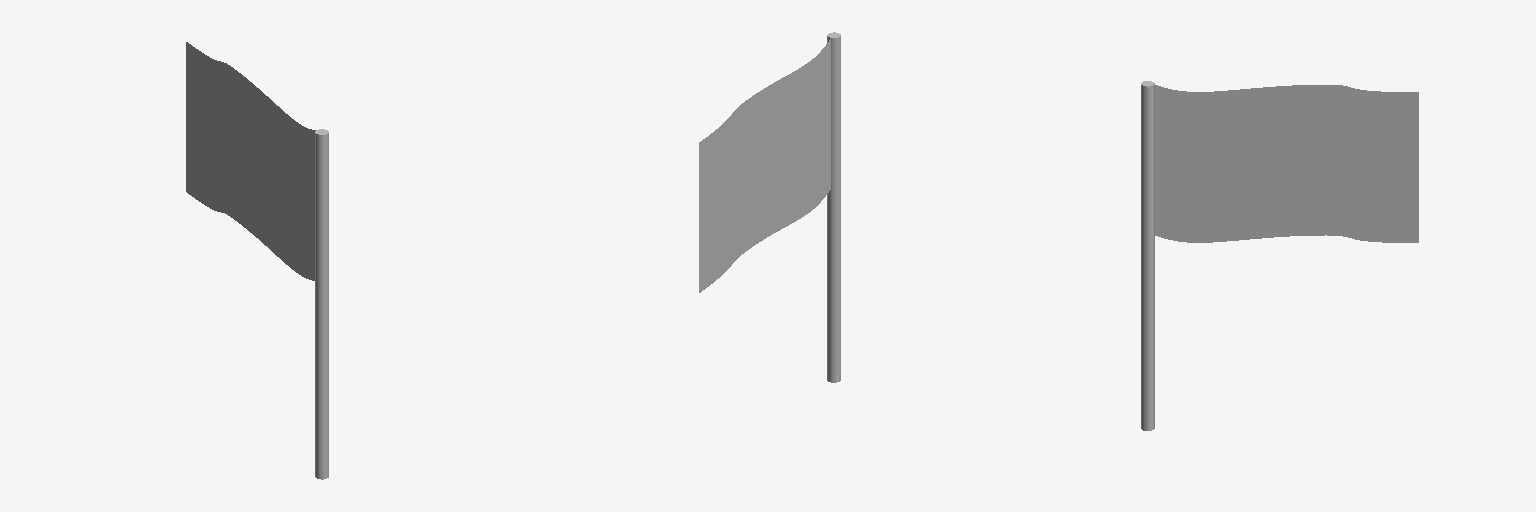
The model's file is flag.obj.
The picture shows the model from 3 angles: view 1: azimuth 30°, elevation 25°; view 2: azimuth 150°, elevation 25°; view 3: azimuth 270°, elevation 25°; orthographic projection.
Visible parts, largest first — view 1: Cylinder; view 2: Cylinder; view 3: Cylinder.
Boxes of the visible parts, box(x1,y1,x2,y2) form: Cylinder: box(186, 42, 328, 479); Cylinder: box(699, 32, 840, 382); Cylinder: box(1141, 81, 1418, 430).
Bounding box in the file's own units: 0.0357 × 0.9999 × 0.7307.